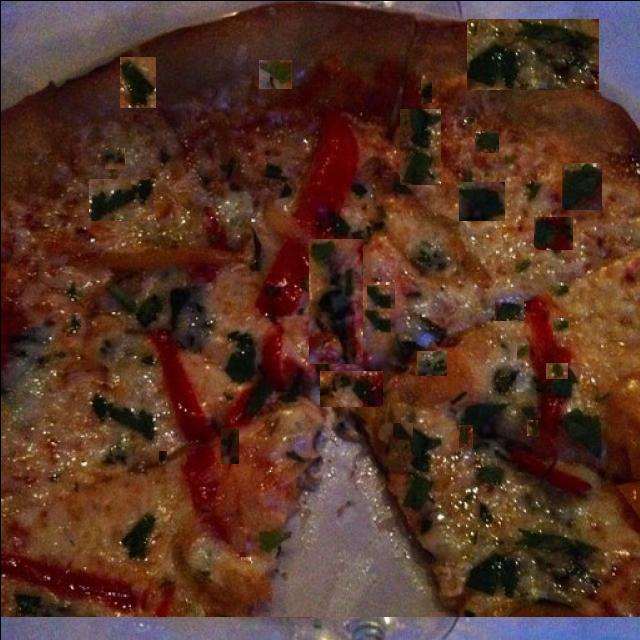basil: (466, 18, 598, 89), (308, 238, 362, 363), (0, 222, 68, 296), (105, 288, 204, 334), (399, 108, 440, 184), (88, 178, 155, 220), (396, 256, 446, 303), (319, 370, 382, 406), (561, 162, 601, 209), (119, 56, 155, 107), (458, 181, 504, 220), (533, 216, 572, 249), (263, 417, 289, 454), (258, 59, 291, 88), (416, 350, 446, 375), (496, 224, 518, 255), (366, 284, 394, 308), (220, 427, 238, 463), (494, 298, 523, 320), (247, 345, 260, 386), (474, 130, 498, 152), (104, 147, 124, 168), (392, 422, 412, 440), (65, 312, 80, 336), (545, 362, 567, 378), (480, 92, 494, 116), (458, 424, 472, 447), (552, 317, 569, 334), (348, 417, 366, 433), (420, 79, 431, 102), (516, 341, 528, 359), (524, 419, 536, 435), (202, 426, 209, 444), (158, 449, 166, 464), (462, 116, 476, 124)
pizza: (0, 0, 640, 616)
